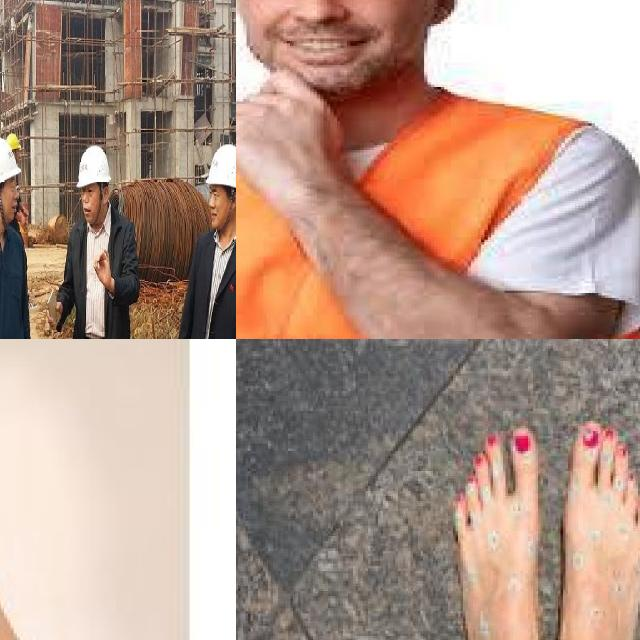Barefoots: (442, 423, 549, 640), (554, 419, 640, 640)
No_Ear-Protection: (101, 186, 109, 204), (230, 192, 236, 209)
No_Glasses: (207, 186, 222, 201), (6, 179, 18, 195), (81, 186, 95, 196)
face_mask: (210, 198, 228, 231), (81, 194, 98, 222)
face_nomask: (237, 0, 426, 79), (3, 192, 18, 221)
hand_noglove: (236, 69, 349, 175), (93, 250, 114, 294)
head_helmet: (77, 145, 111, 187), (206, 143, 236, 188), (0, 139, 21, 185)
vest: (236, 94, 618, 339)
